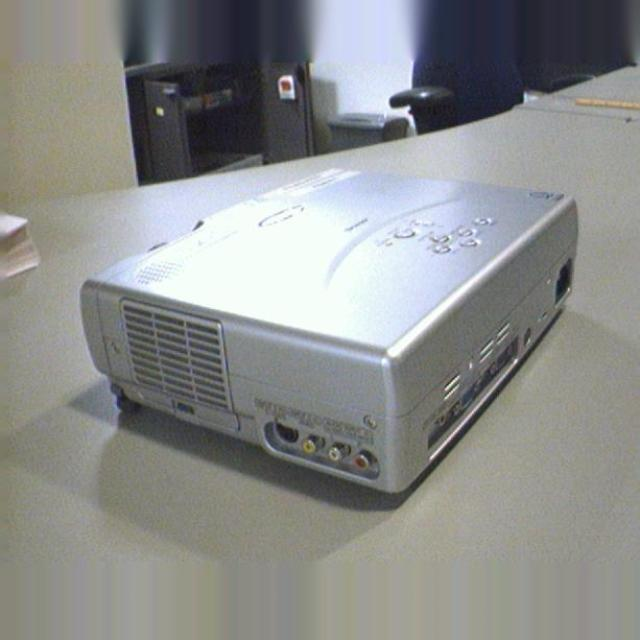Projector: (80, 168, 582, 494)
